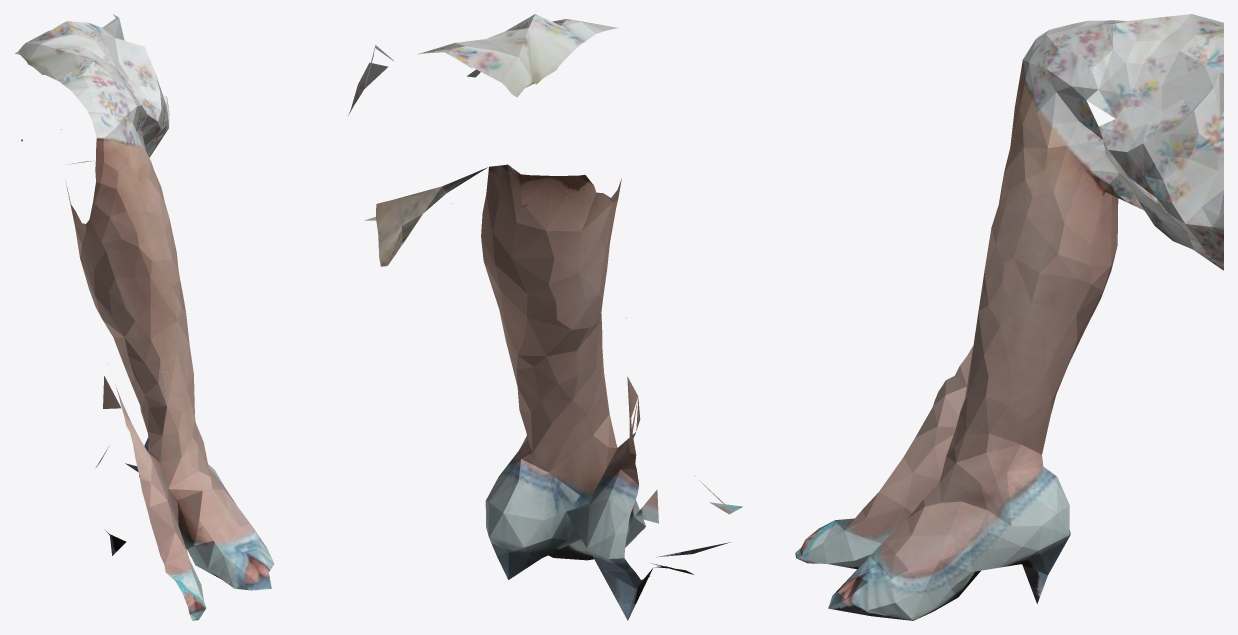
3 renders of one model, left to right at view 1: azimuth 30°, elevation 25°; view 2: azimuth 150°, elevation 25°; view 3: azimuth 270°, elevation 25°, orthographic. The views are drawn at different scales.
Size of the model in its own units: 189 by 546 by 382.
Materials: 1 (1 with a texture image).
